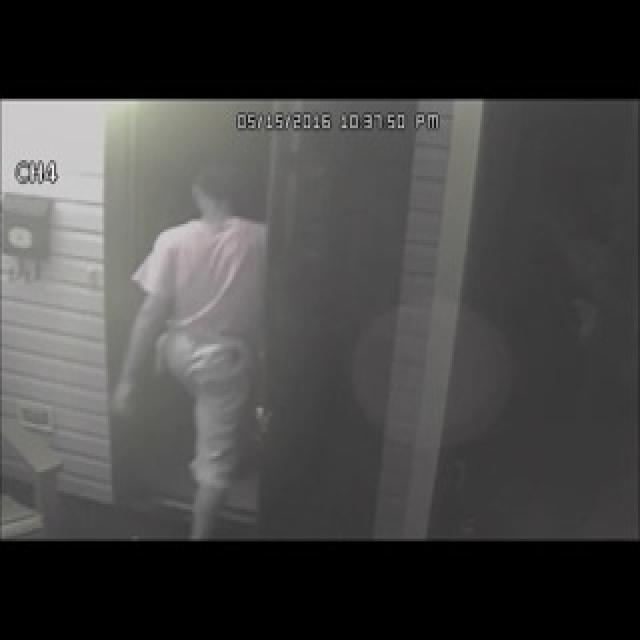thief: (148, 129, 262, 339)
